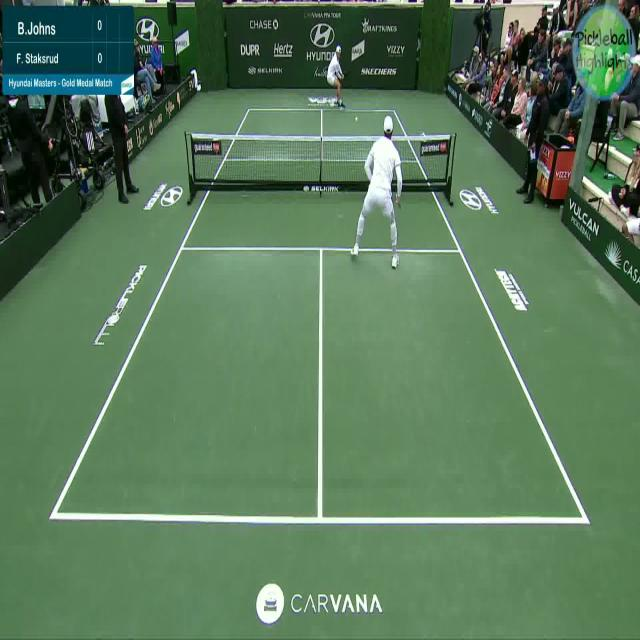ball: (354, 114, 358, 122)
